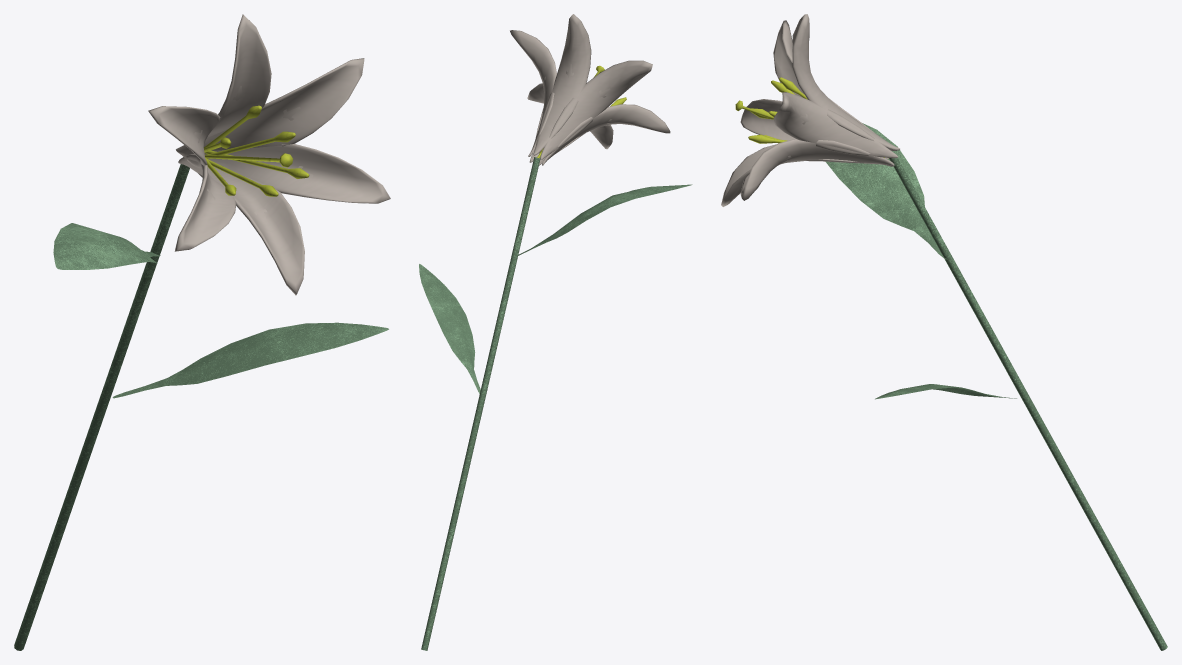
File: Yuri.fbx
3 views of the same model, side by side, from view 1: azimuth 30°, elevation 25°; view 2: azimuth 150°, elevation 25°; view 3: azimuth 270°, elevation 25° (orthographic). The views are drawn at different scales.
Visible parts, largest first — view 1: Yuri; view 2: Yuri; view 3: Yuri.
Boxes of the visible parts, x1=… form: Yuri: x1=14, y1=14, x2=390, y2=650; Yuri: x1=419, y1=14, x2=692, y2=650; Yuri: x1=721, y1=14, x2=1167, y2=650.
Bounding box in the file's own units: 670 × 1374 × 874.
